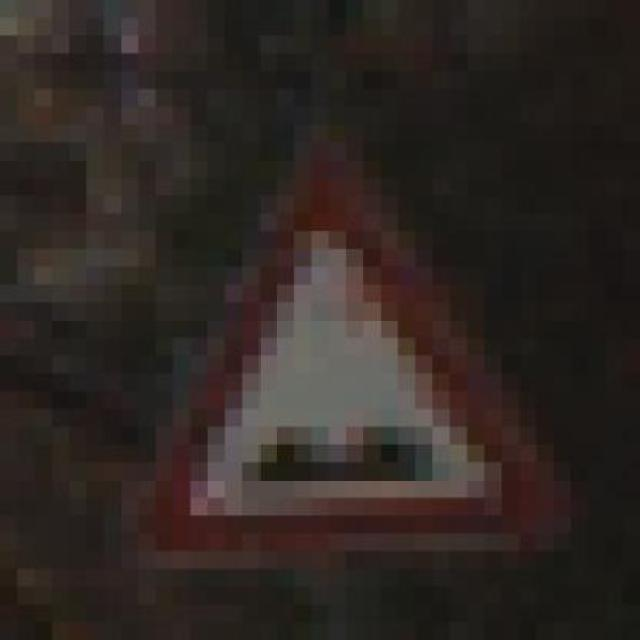Uneven Road: (103, 120, 588, 548)
